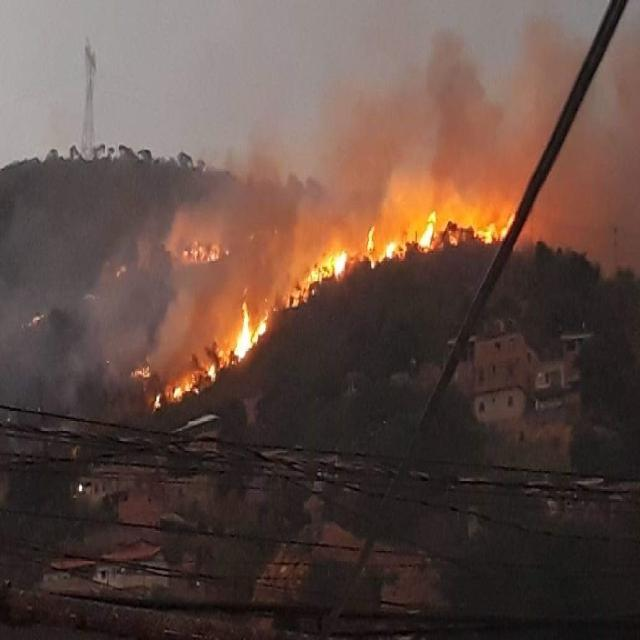Fire: (172, 296, 268, 400), (290, 246, 348, 308), (366, 219, 395, 268), (474, 214, 515, 246), (416, 208, 438, 252), (181, 240, 220, 264), (129, 363, 151, 379), (153, 391, 162, 409)
Smoke: (0, 23, 640, 431)
